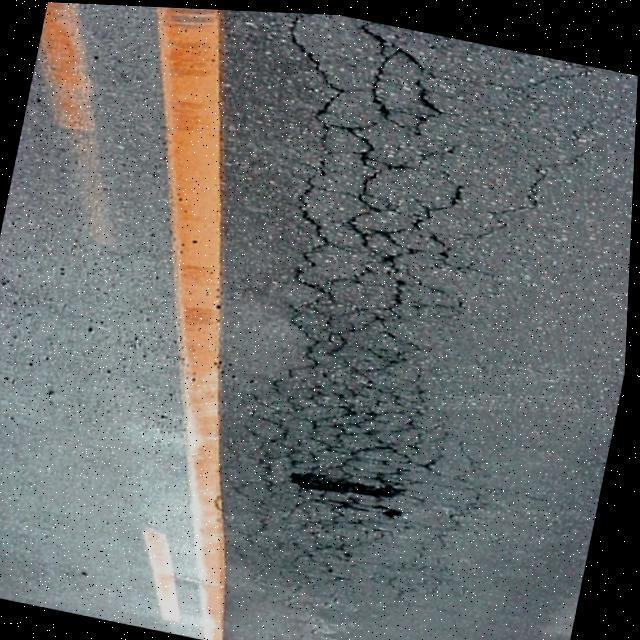pothole: (284, 445, 412, 515)
